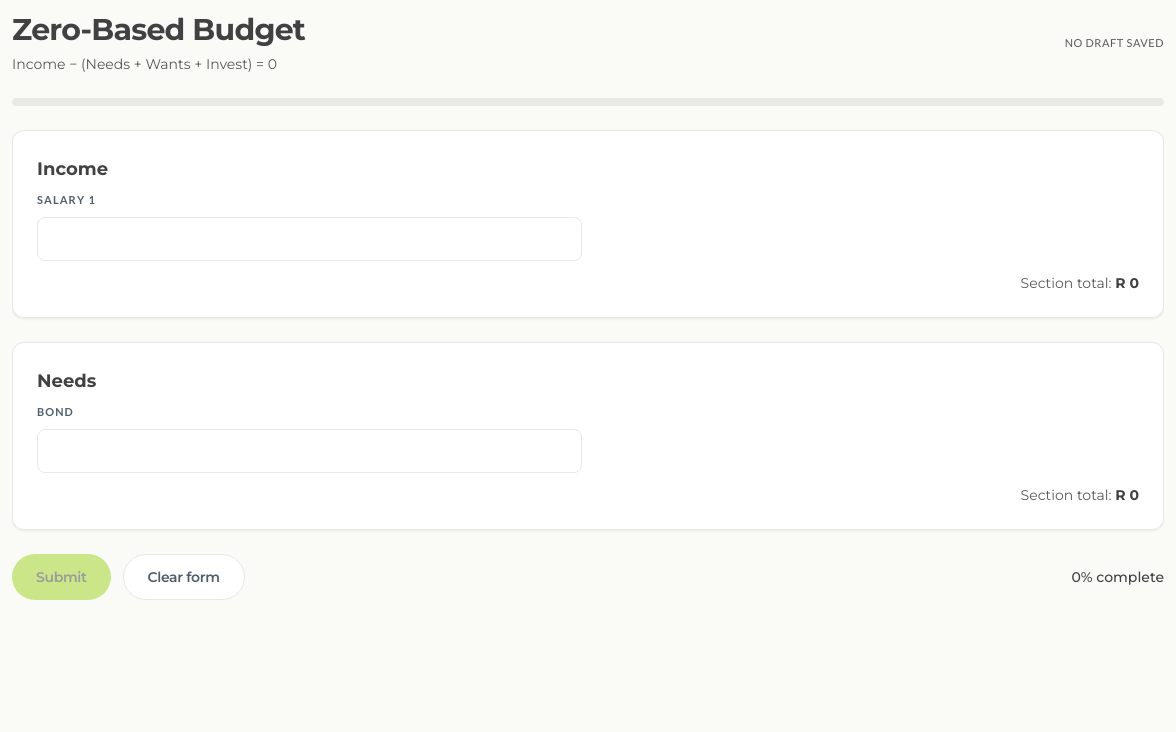
Test case: WorksheetForm › maps server VALIDATION_ERROR details into per-field errors
The image size is (1176, 732).
Step 1. Type "45000" into the number field labelled "Salary 1" → [310, 239], box [37,217,582,261]
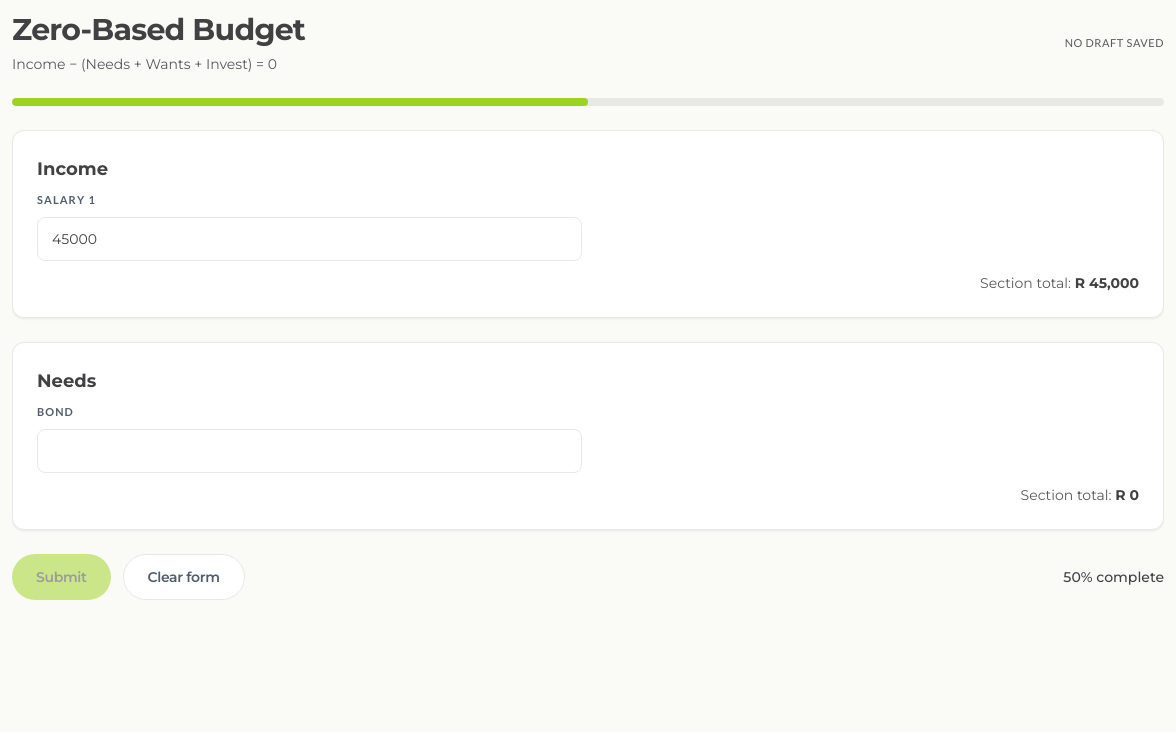
Step 2. Type "11000" into the number field labelled "Bond" → [310, 451], box [37,429,582,473]
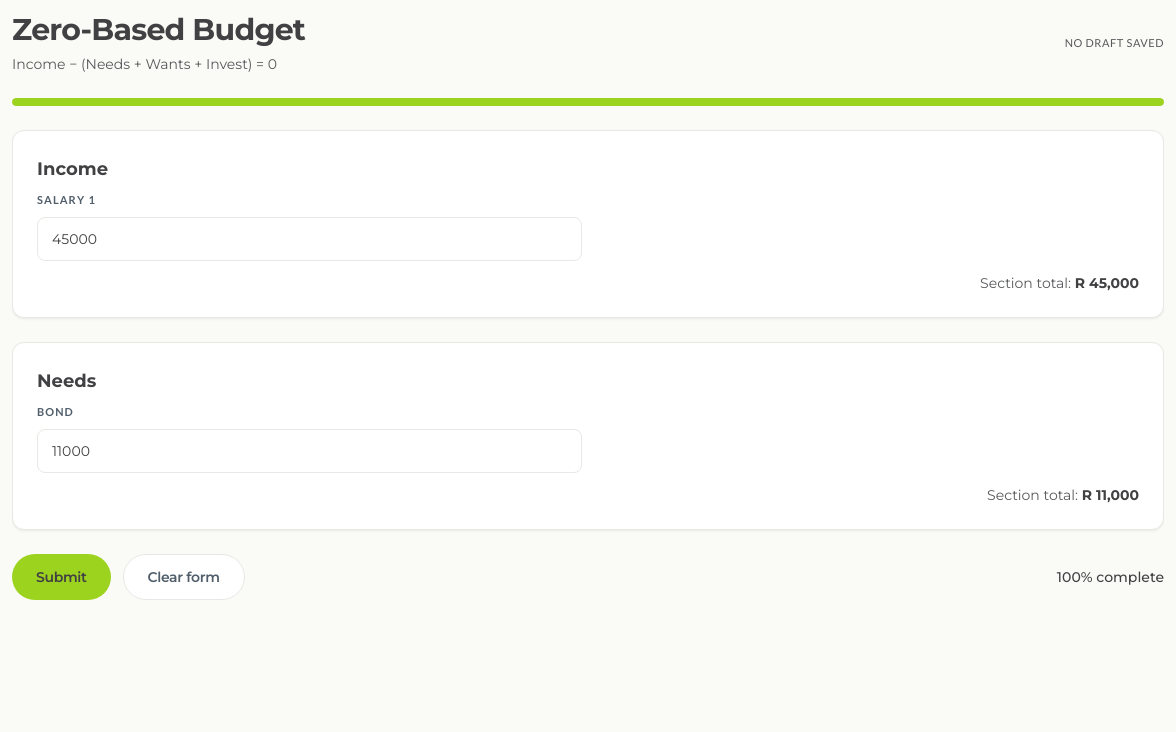
Step 3. Click the button with aria-label "submit worksheet" → [61, 577], box [12,554,111,600]
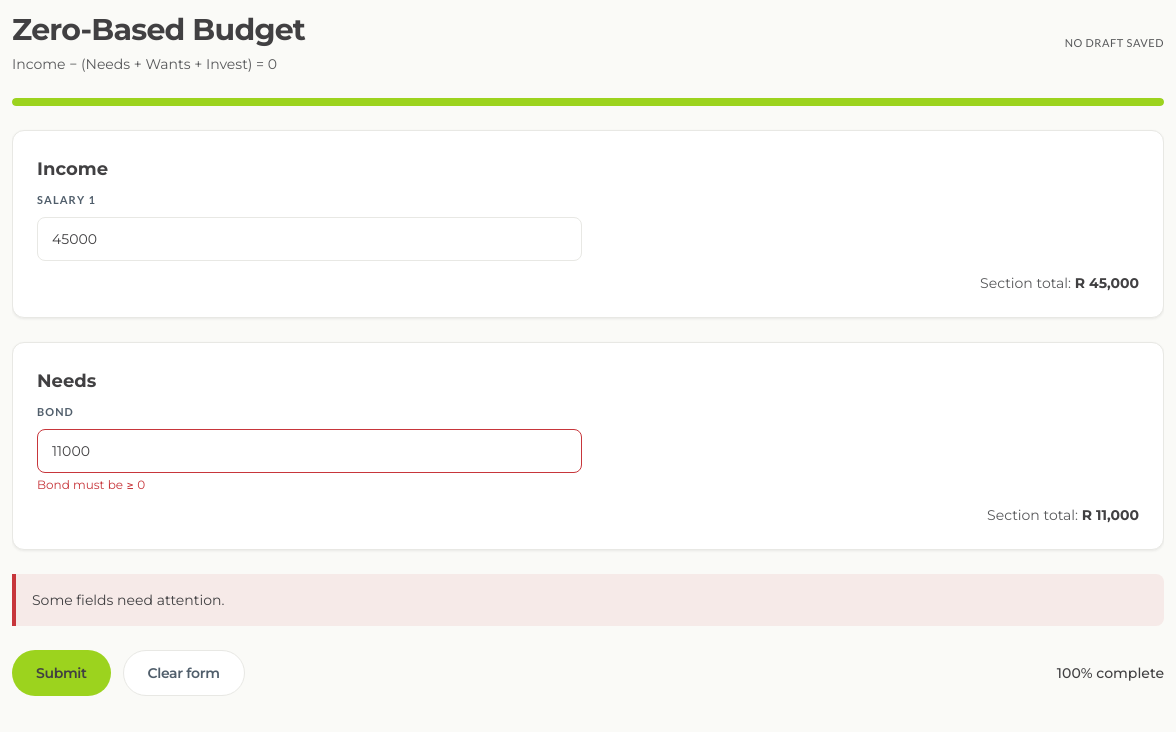
Expected: the text "Some fields need attention." is shown, [32,591,224,609]
Expected: the text "Bond must be ≥ 0" is shown, [37,477,145,492]
